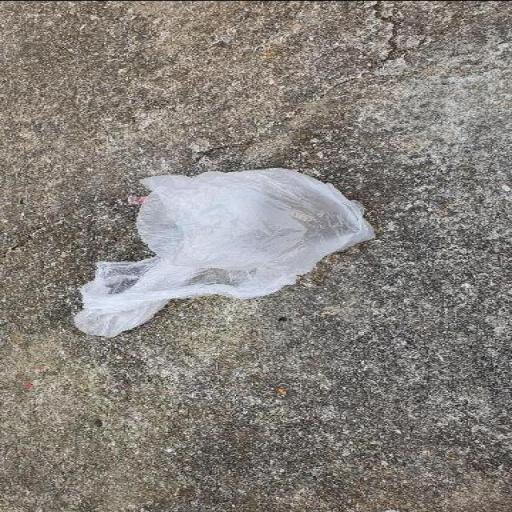plastic-bag: (72, 164, 378, 340)
